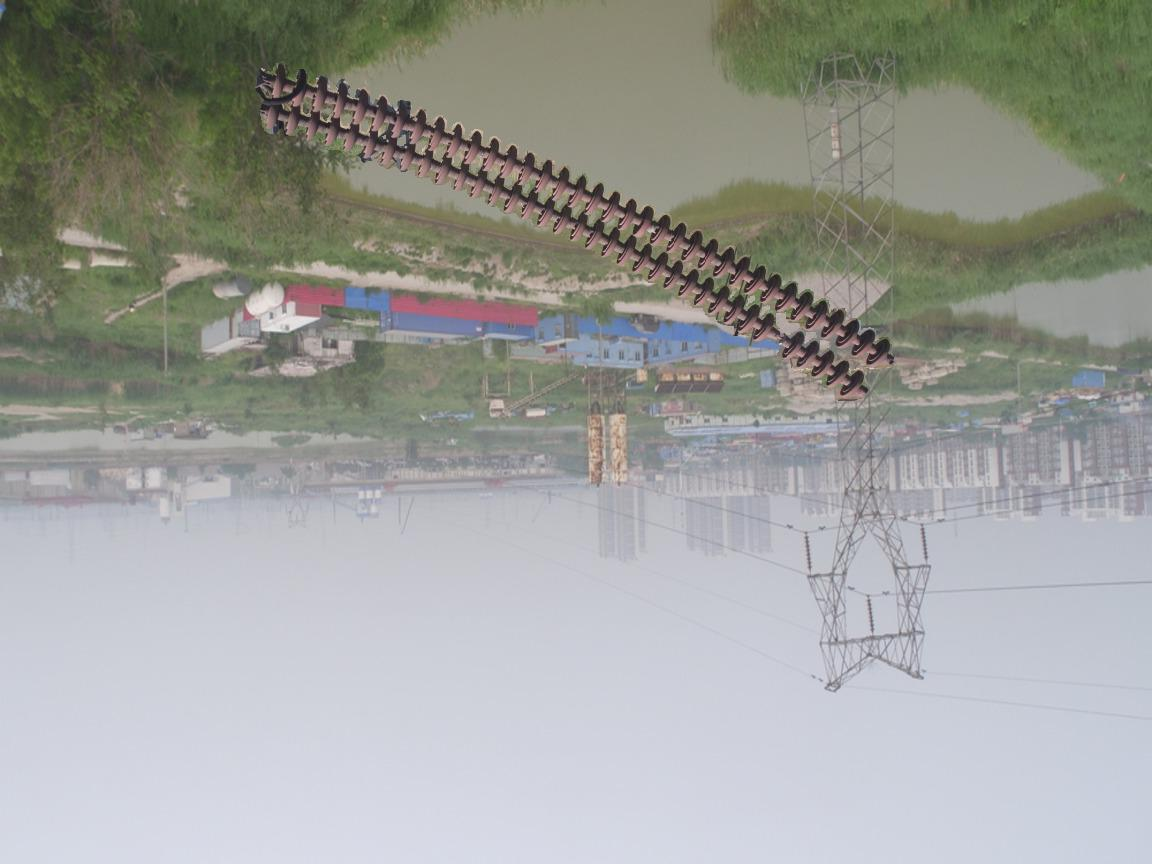insulator: (253, 59, 905, 405)
insulator_stringdrop: (750, 311, 807, 362)
